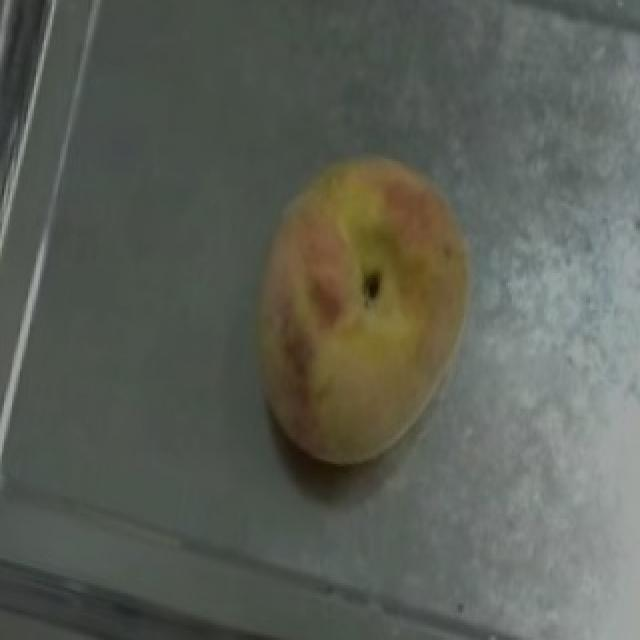Fruit: (208, 194, 496, 498)
